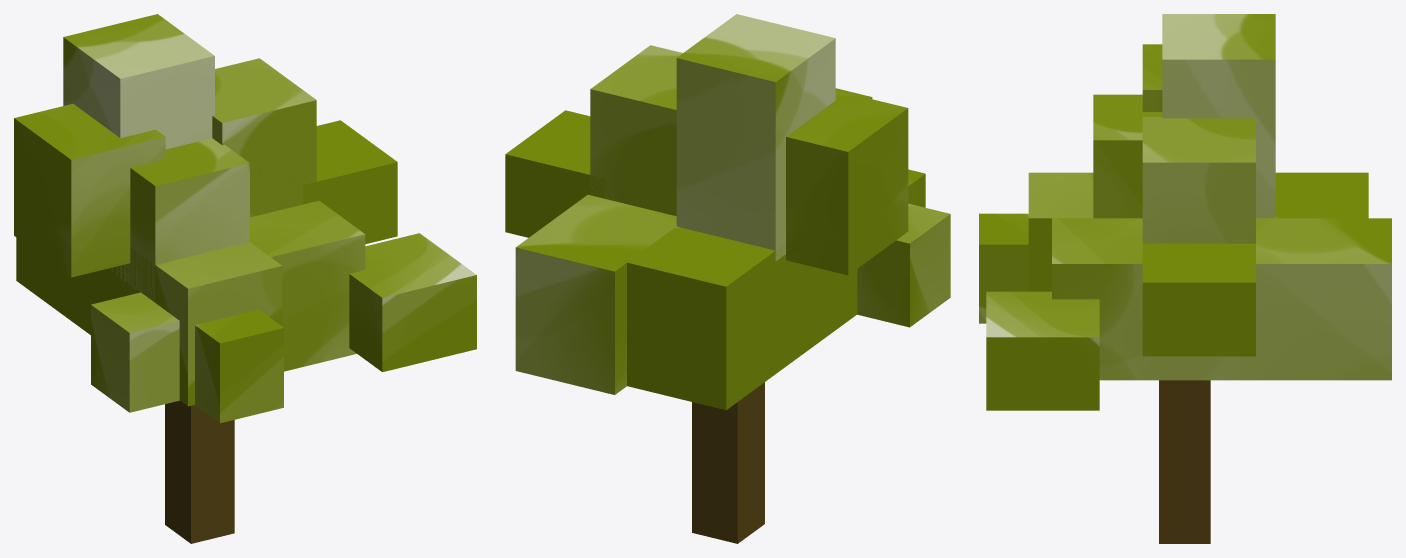
File: Tree.FBX
3 renders of one model, left to right at view 1: azimuth 30°, elevation 25°; view 2: azimuth 150°, elevation 25°; view 3: azimuth 270°, elevation 25°, orthographic. The views are drawn at different scales.
Visible parts, largest first — view 1: tree; view 2: tree; view 3: tree.
Part boxes in pixels (x1=…): tree: x1=14, y1=14, x2=476, y2=543; tree: x1=505, y1=14, x2=950, y2=543; tree: x1=979, y1=14, x2=1391, y2=543.
Bounding box in the file's own units: 5.46 × 6.04 × 7.68.
